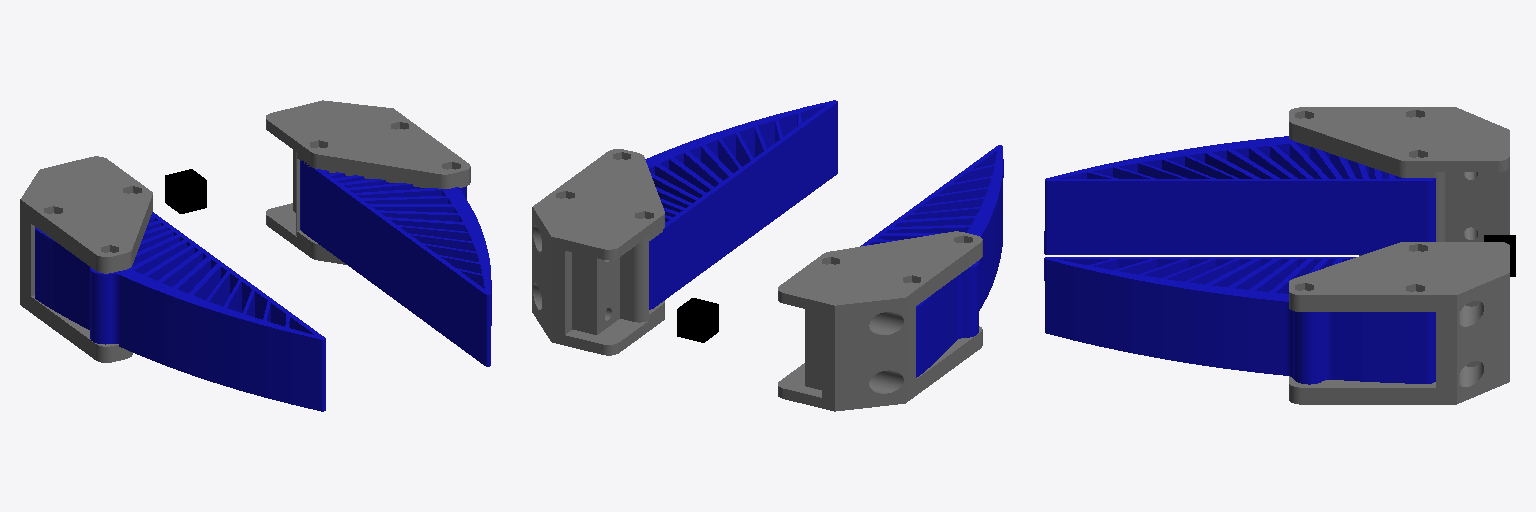
robot.urdf — tri_finray_gripper:
<?xml version="1.0" encoding="utf-8"?>
<robot name="tri_finray_gripper">
  <material name="black">
    <color rgba="0.0 0.0 0.0 0.1"/>
  </material>
  <material name="white">
    <color rgba="1.0 1.0 1.0 1.0"/>
  </material>
  <material name="blue">
    <color rgba="0.1 0.1 0.8 1.0"/>
  </material>
  <material name="gray">
    <color rgba="0.5 0.5 0.5 1.0"/>
  </material>
  <link name="base_link">
    <visual>
      <origin rpy="0 0 0" xyz="0 0 0"/>
      <geometry>
        <box size="0.01 0.01 0.01"/>
      </geometry>
      <material name="black"/>
    </visual>
  </link>
  <link name="finger_holder_left">
    <visual>
      <origin rpy="0 0 0" xyz="0 0 0"/>
      <geometry>
        <mesh filename="package://tri_finray_gripper/meshes/wsg50_mount - finger_holder_left.obj" scale="0.001 0.001 0.001"/>
      </geometry>
      <material name="gray"/>
    </visual>
    <collision>
      <geometry>
        <box size="0.04 0.06979999499999999 0.038"/>
      </geometry>
      <origin rpy="0.0 -0.0 0.0" xyz="-0.02 -0.11160000249999999 0.0"/>
    </collision>
  </link>
  <link name="finger_holder_right">
    <visual>
      <origin rpy="0 0 0" xyz="0 0 0"/>
      <geometry>
        <mesh filename="package://tri_finray_gripper/meshes/wsg50_mount - finger_holder_right.obj" scale="0.001 0.001 0.001"/>
      </geometry>
      <material name="gray"/>
    </visual>
    <collision>
      <geometry>
        <box size="0.04 0.06979999499999999 0.038"/>
      </geometry>
      <origin rpy="0.0 -0.0 0.0" xyz="0.02 -0.11160000249999999 0.0"/>
    </collision>
  </link>
  <link name="soft_finger_left">
    <visual>
      <origin rpy="0 0 0" xyz="0 0 0"/>
      <geometry>
        <mesh filename="package://tri_finray_gripper/meshes/soft_gripper_finger.obj" scale="0.001 0.001 0.001"/>
      </geometry>
      <material name="blue"/>
    </visual>
    <collision>
      <geometry>
        <box size="0.039999924 0.025800001000000003 0.123364487"/>
      </geometry>
      <origin rpy="0.0 -0.0 0.0" xyz="0.019999962 -0.012900000500000001 -0.0616822435"/>
    </collision>
  </link>
  <link name="soft_finger_right">
    <visual>
      <origin rpy="0 0 0" xyz="0 0 0"/>
      <geometry>
        <mesh filename="package://tri_finray_gripper/meshes/soft_gripper_finger.obj" scale="0.001 0.001 0.001"/>
      </geometry>
      <material name="blue"/>
    </visual>
    <collision>
      <geometry>
        <box size="0.039999924 0.025800001000000003 0.123364487"/>
      </geometry>
      <origin rpy="0.0 -0.0 0.0" xyz="0.019999962 -0.012900000500000001 -0.0616822435"/>
    </collision>
  </link>
  <joint name="base_to_left_holder" type="fixed">
    <parent link="base_link"/>
    <child link="finger_holder_left"/>
    <origin rpy="0 0 0" xyz="-0.03 0.08 0"/>
  </joint>
  <joint name="base_to_right_holder" type="fixed">
    <parent link="base_link"/>
    <child link="finger_holder_right"/>
    <origin rpy="0 0 0" xyz="0.03 0.08 0"/>
  </joint>
  <joint name="left_holder_to_finger" type="fixed">
    <parent link="finger_holder_left"/>
    <child link="soft_finger_left"/>
    <origin rpy="-1.57 3.14 0" xyz="0.0 -0.1 0.012"/>
  </joint>
  <joint name="right_holder_to_finger" type="fixed">
    <parent link="finger_holder_right"/>
    <child link="soft_finger_right"/>
    <origin rpy="-1.57 0 0" xyz="0.0 -0.1 -0.012"/>
  </joint>
</robot>

--- What the picture shows (computed from the rendered views, not written in the file) ---
3 views of the same robot in one strip: view 1: azimuth 30°, elevation 25°; view 2: azimuth 150°, elevation 25°; view 3: azimuth 270°, elevation 25° (orthographic).
Model tri_finray_gripper with 5 links and 4 joints (4 fixed), rooted at base_link, posed every joint at zero.
Links seen in each view (by area): view 1: soft_finger_left, soft_finger_right, finger_holder_left, finger_holder_right, base_link; view 2: finger_holder_left, soft_finger_right, finger_holder_right, soft_finger_left, base_link; view 3: soft_finger_left, soft_finger_right, finger_holder_right, finger_holder_left.
Link boxes in pixels (x1=…): soft_finger_left: x1=35, y1=212, x2=325, y2=411; soft_finger_right: x1=300, y1=160, x2=491, y2=366; finger_holder_left: x1=20, y1=156, x2=152, y2=362; finger_holder_right: x1=266, y1=100, x2=470, y2=264; base_link: x1=165, y1=169, x2=206, y2=213; finger_holder_left: x1=778, y1=231, x2=982, y2=411; soft_finger_right: x1=645, y1=100, x2=837, y2=309; finger_holder_right: x1=532, y1=149, x2=664, y2=355; soft_finger_left: x1=860, y1=145, x2=1003, y2=377; base_link: x1=677, y1=298, x2=718, y2=342; soft_finger_left: x1=1044, y1=136, x2=1435, y2=254; soft_finger_right: x1=1044, y1=257, x2=1435, y2=384; finger_holder_right: x1=1289, y1=242, x2=1509, y2=404; finger_holder_left: x1=1289, y1=107, x2=1509, y2=255.
Bounding box of the posed robot: 0.14 × 0.1484 × 0.038 m (x, y, z).
4 mesh visuals loaded from 3 distinct referenced files (3 OBJ).
